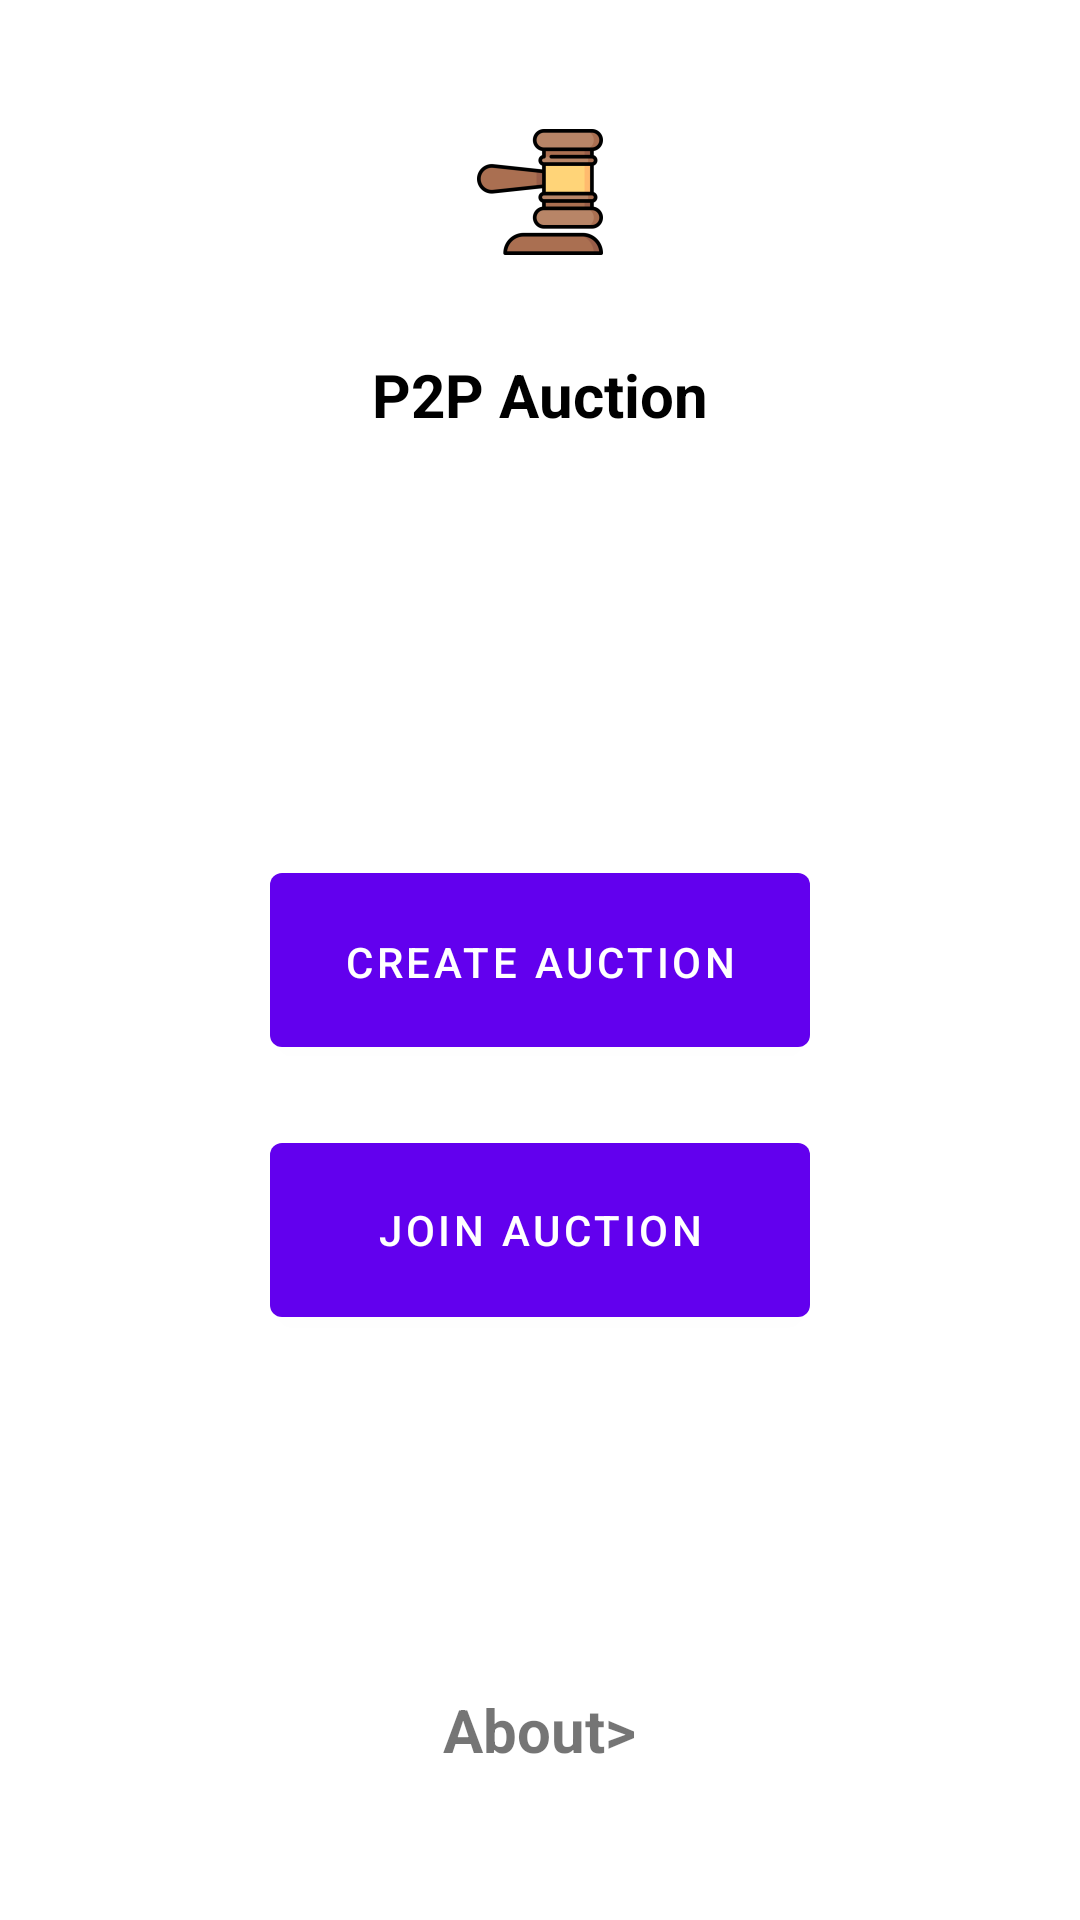

Point at icon controls on the screen. Image size 1080 × 1920, points as (x=x, y=y).
hammer: (x=540, y=192)
